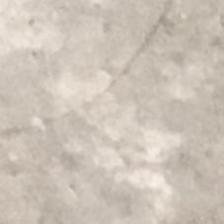Non_Crack: (78, 133, 218, 215)
